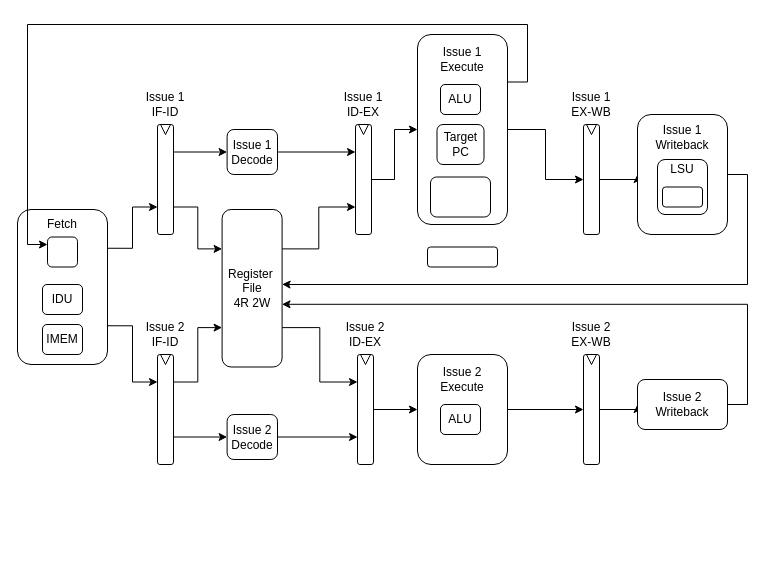
Some shapes in this 773 by 562 pixel diagram are drawn without their labels. Here are the shapes that lost their labels. From the top down, the box of each, then its label:
(430, 176, 490, 217): Branch Compare
(662, 186, 702, 207): DMEM
(46, 236, 78, 267): PC
(426, 246, 498, 267): Hazard Unit
